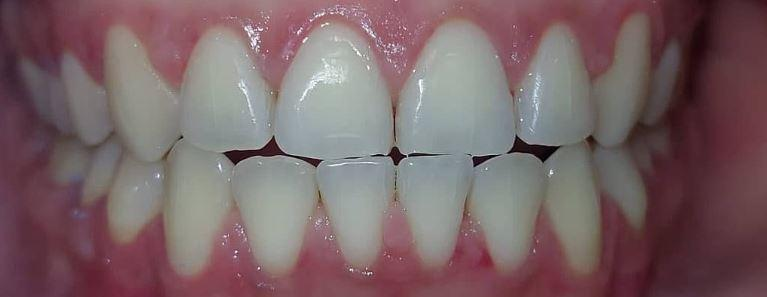1st Molar: (53, 138, 88, 186), (24, 58, 51, 118), (648, 125, 677, 158)
1st Premolar: (109, 148, 162, 241), (597, 145, 648, 232), (66, 51, 111, 145), (647, 39, 682, 126)
2nd Premolar: (80, 141, 122, 201), (632, 127, 659, 175), (52, 68, 70, 134)
Canine: (103, 18, 176, 165), (163, 140, 228, 284), (595, 8, 654, 148), (545, 143, 602, 277)
Central Incisor: (394, 13, 516, 157), (272, 15, 394, 158), (315, 158, 398, 275), (398, 156, 476, 271)
Lateral Incisor: (176, 18, 273, 152), (230, 155, 318, 283), (516, 15, 595, 147), (475, 154, 545, 276)
